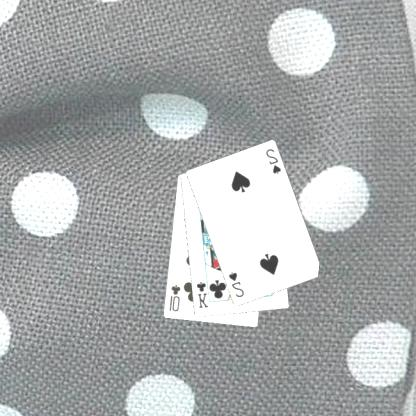10C: (168, 282, 183, 313)
2S: (227, 269, 247, 299), (264, 146, 284, 176)
KC: (195, 275, 213, 309)
